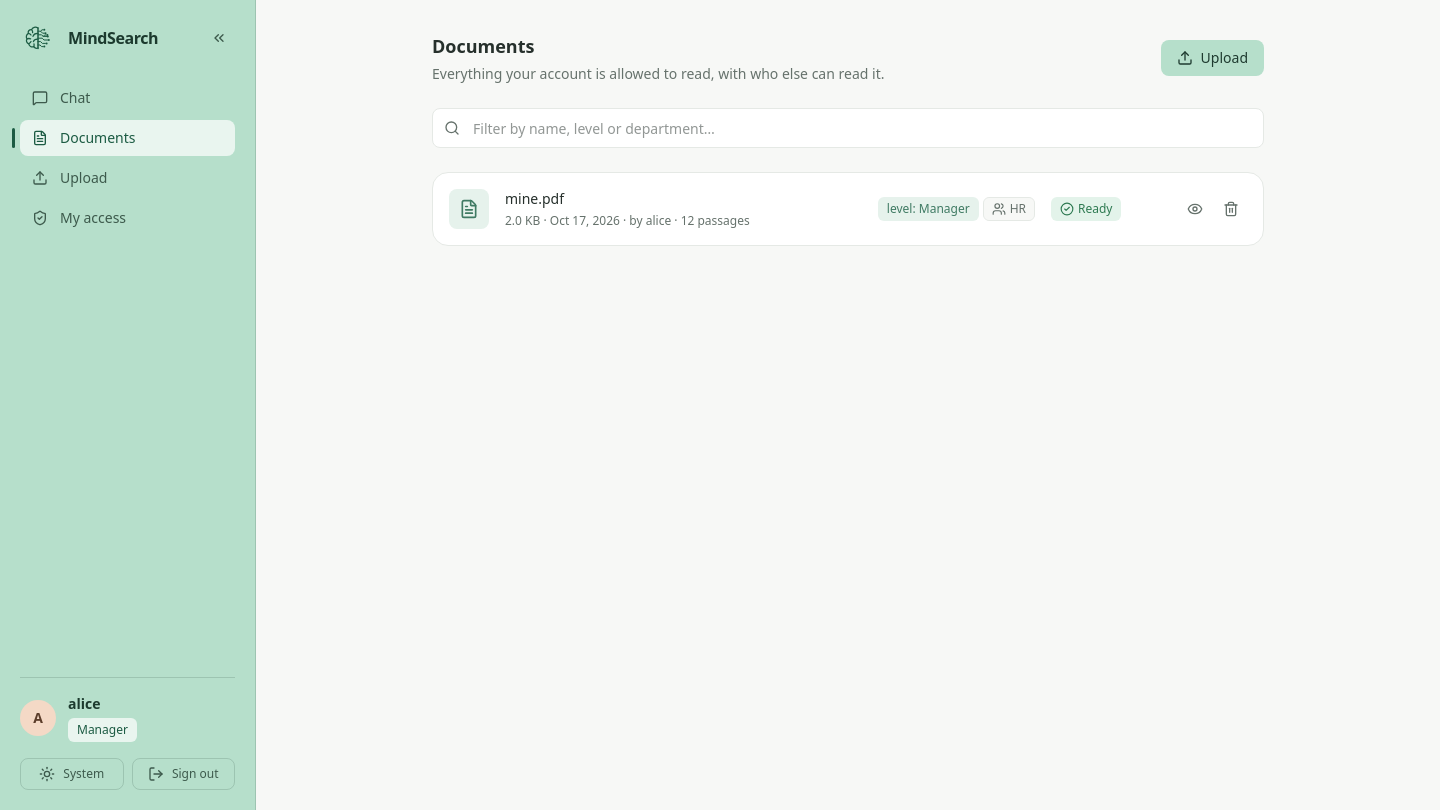
Scenario: documents › asks for confirmation, deletes, and refreshes the list
Click the button named "Delete mine.pdf". click: (1231, 209)
box: [1215,193,1247,225]
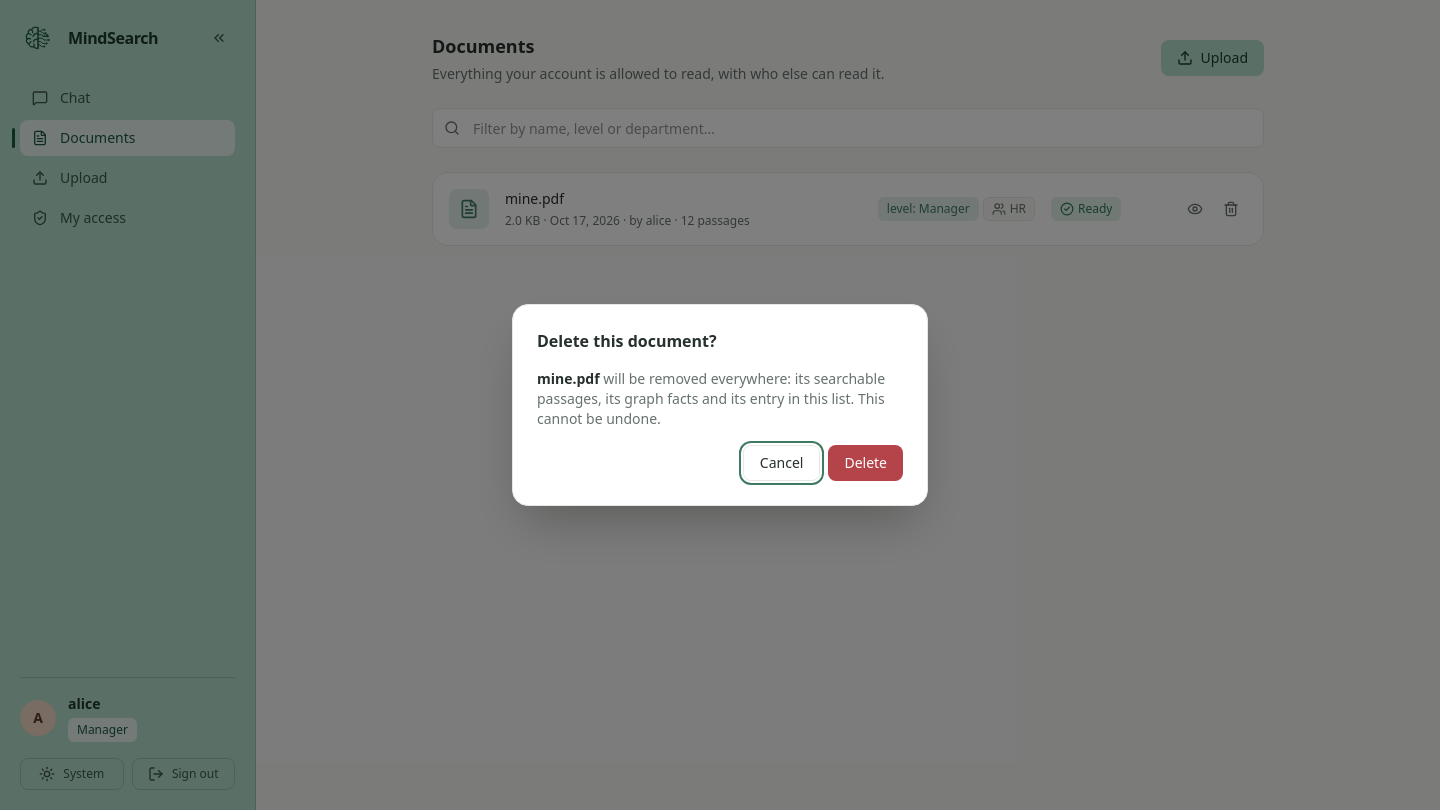
Check: the text "cannot be undone" is shown, box [537,369,885,428]
Click the button "Delete". click: (866, 463)
box: [828,445,903,481]
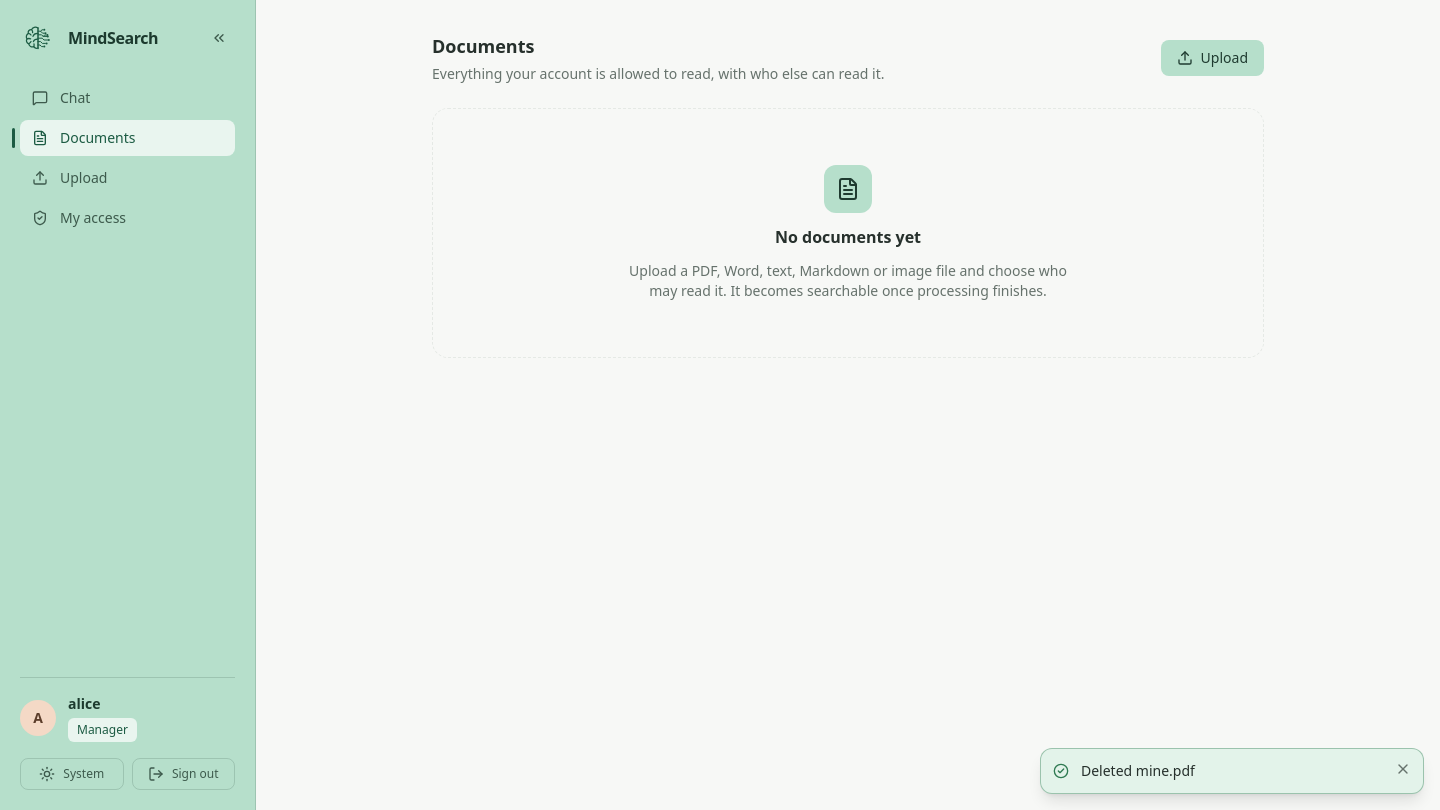
Check: the heading "No documents yet" is shown, box [775,225,921,249]
